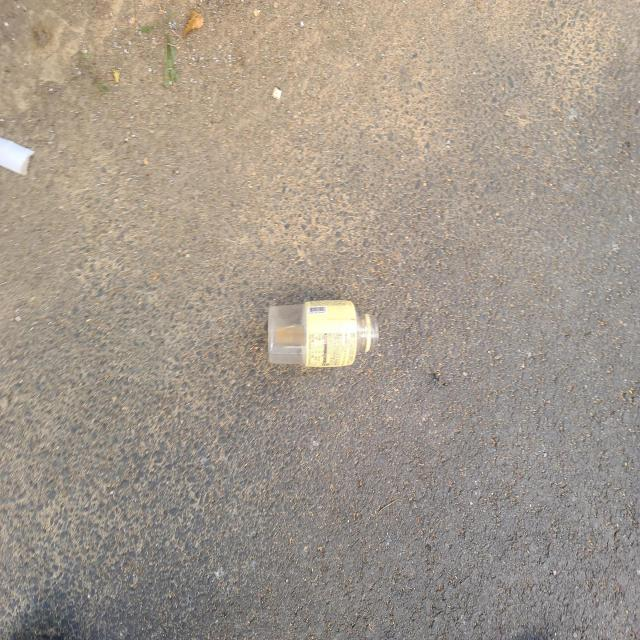plastic: (268, 300, 379, 367)
